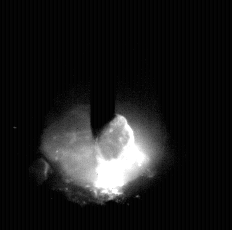arame: (90, 0, 116, 140)
poca: (39, 0, 167, 230)
